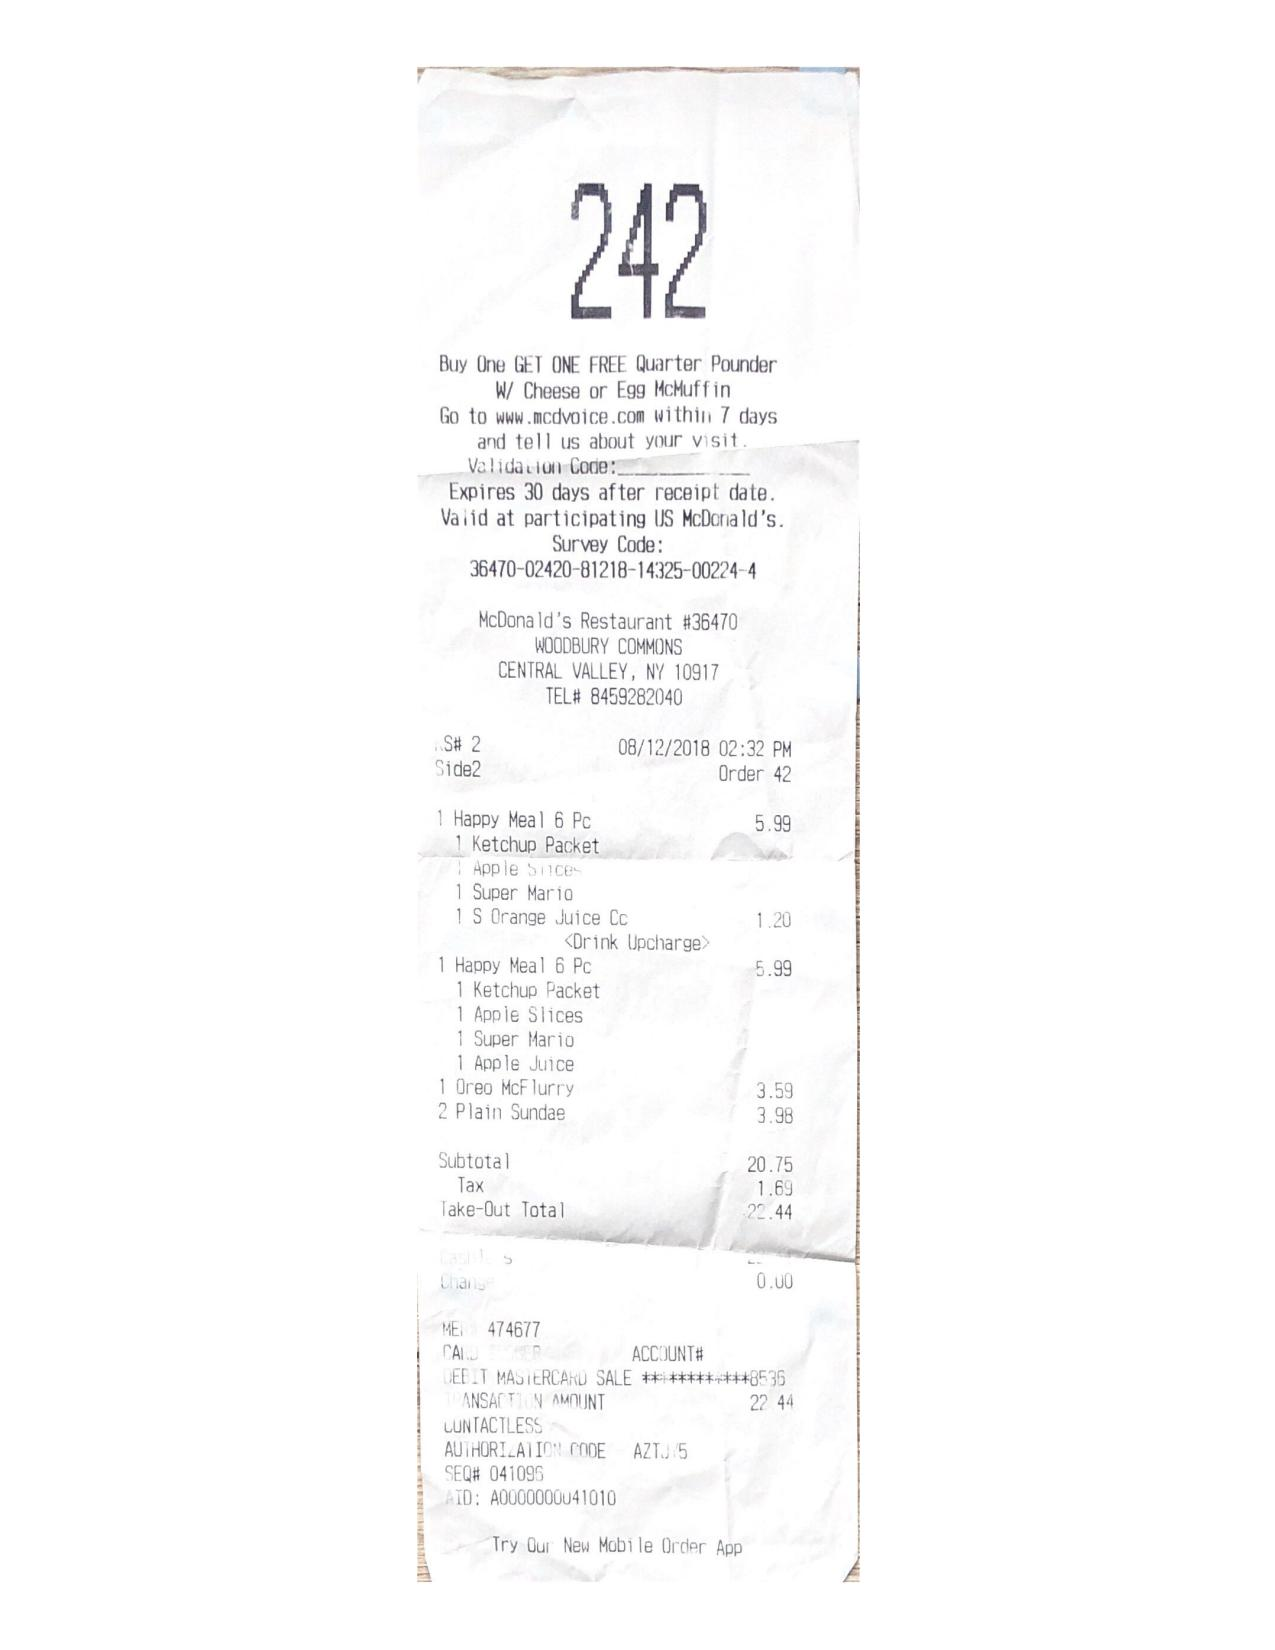Amount: (749, 1203, 792, 1219)
Date: (619, 738, 708, 755)
company_name: (479, 609, 671, 629)
